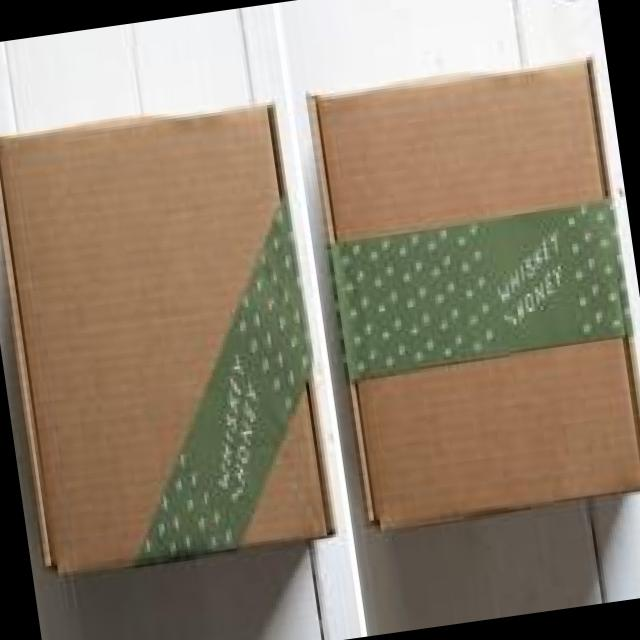box: (1, 100, 340, 575), (305, 56, 640, 535)
